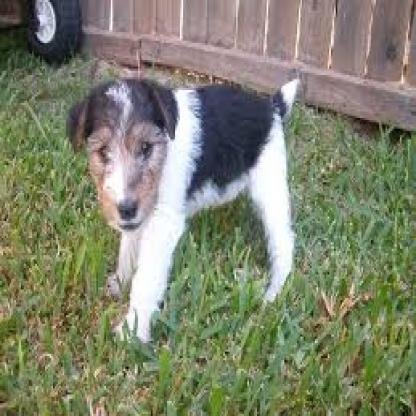Fox terrier: (64, 64, 312, 346)
